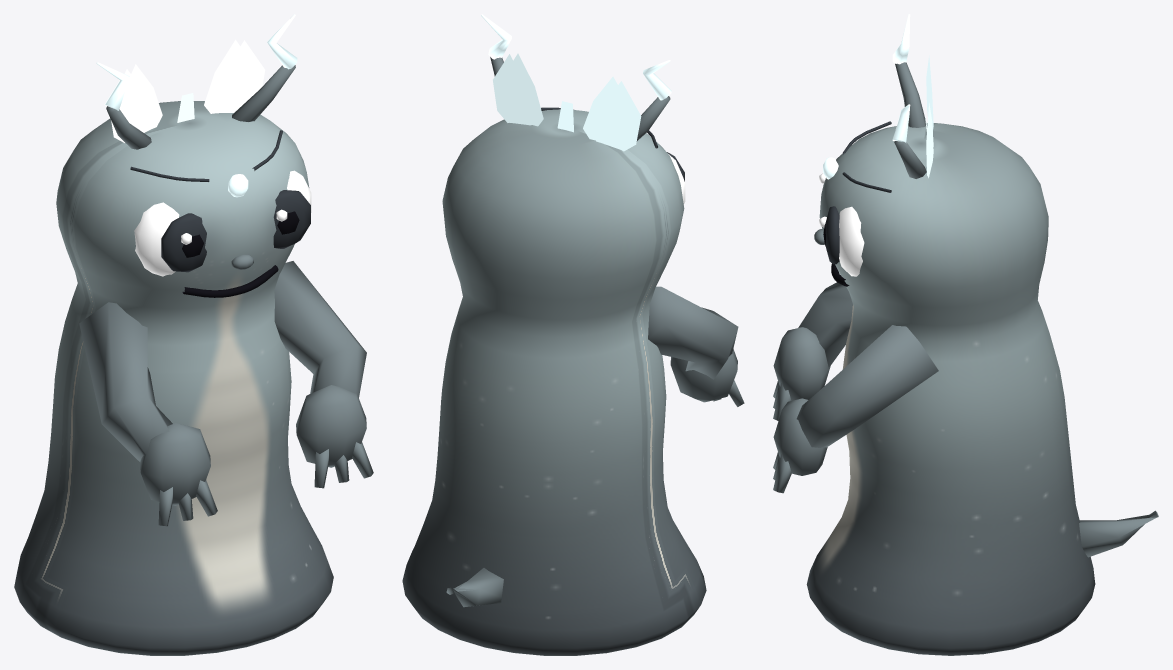
The model's file is brisa_pixar.glb.
3 views of the same model, side by side, from view 1: azimuth 30°, elevation 25°; view 2: azimuth 150°, elevation 25°; view 3: azimuth 270°, elevation 25° (orthographic). The views are drawn at different scales.
Visible parts, largest first — view 1: brisa_cuerpo; view 2: brisa_cuerpo; view 3: brisa_cuerpo.
Boxes of the visible parts, <box> form: brisa_cuerpo: <box>14,14,373,655</box>; brisa_cuerpo: <box>402,14,744,655</box>; brisa_cuerpo: <box>773,14,1158,655</box>.
Bounding box in the file's own units: 0.2973 × 0.58 × 0.3785.
5 materials, 1 textured.
